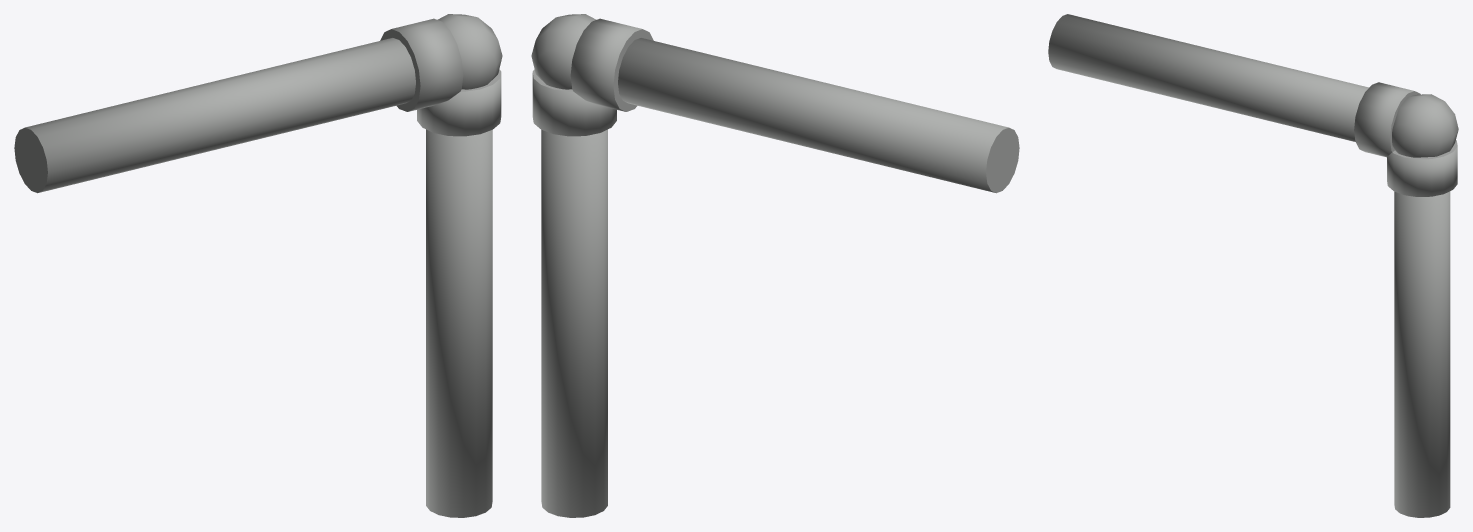
The model's file is pipe_m09.obj.
3 views of the same model, side by side, from view 1: azimuth 30°, elevation 25°; view 2: azimuth 150°, elevation 25°; view 3: azimuth 330°, elevation 25° (orthographic). The views are drawn at different scales.
Parts seen in each view (by area): view 1: pipe8, pipe1, fitting_socket8, fitting_socket1, fitting_hub; view 2: pipe8, pipe1, fitting_socket8, fitting_socket1, fitting_hub; view 3: pipe1, pipe8, fitting_hub, fitting_socket1, fitting_socket8.
Part boxes in pixels (<box>): pipe8: <box>14,38,415,193</box>; pipe1: <box>426,129,492,517</box>; fitting_socket8: <box>380,18,463,111</box>; fitting_socket1: <box>417,69,501,136</box>; fitting_hub: <box>437,14,502,89</box>; pipe8: <box>618,38,1019,193</box>; pipe1: <box>541,129,607,517</box>; fitting_socket8: <box>570,18,653,111</box>; fitting_socket1: <box>532,69,616,136</box>; fitting_hub: <box>531,14,596,89</box>; pipe1: <box>1394,191,1450,517</box>; pipe8: <box>1048,14,1368,141</box>; fitting_hub: <box>1392,94,1458,157</box>; fitting_socket1: <box>1387,140,1457,196</box>; fitting_socket8: <box>1354,82,1420,157</box>.
Size of the model in its own units: 0.5439 by 0.5439 by 0.0878.
Materials: 1 (1 with a texture image).
